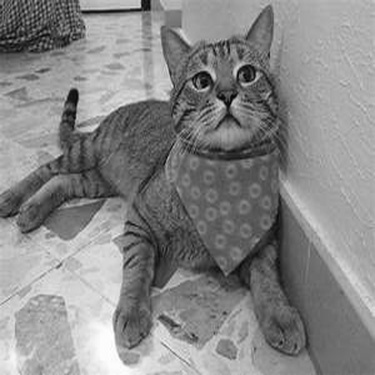cat: (1, 6, 309, 362)
